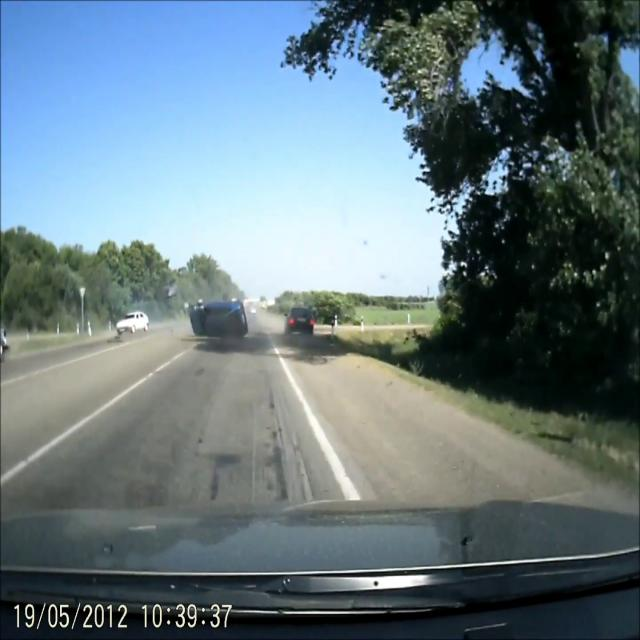accident: (179, 294, 258, 344)
